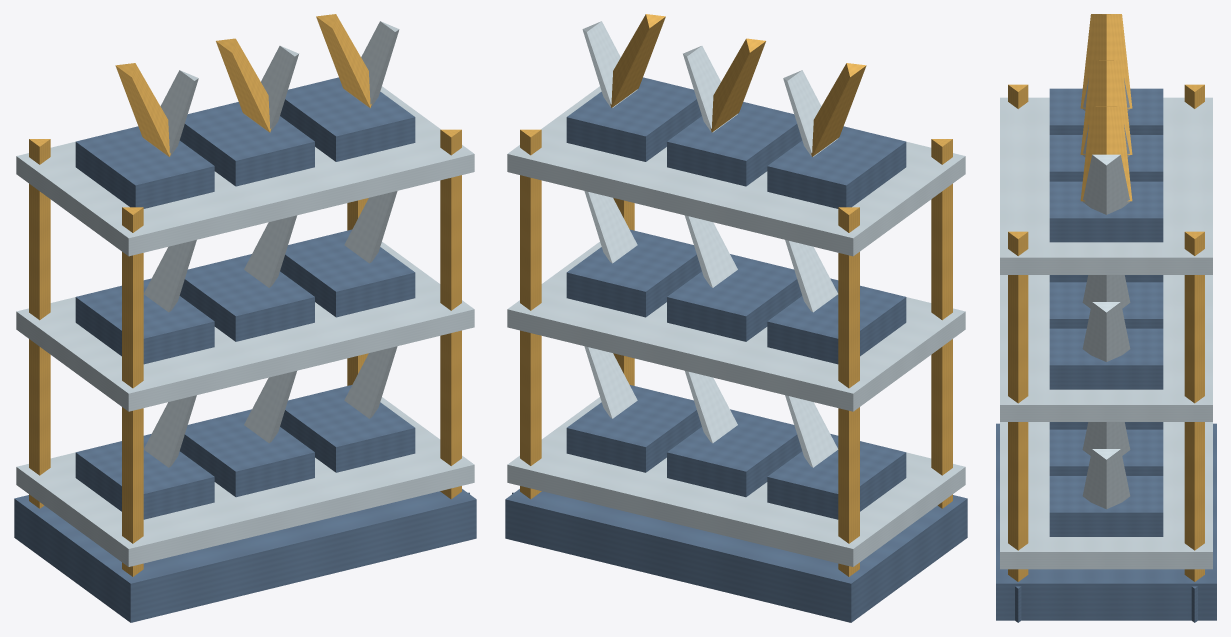
The model's file is atlas100-s054-a01.lod2.glb.
3 views of the same model, side by side, from view 1: azimuth 30°, elevation 25°; view 2: azimuth 150°, elevation 25°; view 3: azimuth 270°, elevation 25° (orthographic). The views are drawn at different scales.
Parts seen in each view (by area): view 1: atlas100-s054-a01:part-000, atlas100-s054-a01:part-031, atlas100-s054-a01:part-011, atlas100-s054-a01:part-021, atlas100-s054-a01:part-032, atlas100-s054-a01:part-028, atlas100-s054-a01:part-018, atlas100-s054-a01:part-015, atlas100-s054-a01:part-025, atlas100-s054-a01:part-038, atlas100-s054-a01:part-035, atlas100-s054-a01:part-005 (+17 smaller); view 2: atlas100-s054-a01:part-000, atlas100-s054-a01:part-031, atlas100-s054-a01:part-011, atlas100-s054-a01:part-021, atlas100-s054-a01:part-032, atlas100-s054-a01:part-028, atlas100-s054-a01:part-018, atlas100-s054-a01:part-015, atlas100-s054-a01:part-025, atlas100-s054-a01:part-038, atlas100-s054-a01:part-035, atlas100-s054-a01:part-003 (+17 smaller); view 3: atlas100-s054-a01:part-031, atlas100-s054-a01:part-011, atlas100-s054-a01:part-021, atlas100-s054-a01:part-000, atlas100-s054-a01:part-007, atlas100-s054-a01:part-009, atlas100-s054-a01:part-028, atlas100-s054-a01:part-018, atlas100-s054-a01:part-038, atlas100-s054-a01:part-025, atlas100-s054-a01:part-015, atlas100-s054-a01:part-032 (+13 smaller).
Boxes of the visible parts, <box> form: atlas100-s054-a01:part-000: <box>14,489,476,622</box>; atlas100-s054-a01:part-031: <box>16,86,474,256</box>; atlas100-s054-a01:part-011: <box>16,397,474,566</box>; atlas100-s054-a01:part-021: <box>16,242,474,411</box>; atlas100-s054-a01:part-032: <box>75,126,214,208</box>; atlas100-s054-a01:part-028: <box>280,229,415,317</box>; atlas100-s054-a01:part-018: <box>280,385,415,472</box>; atlas100-s054-a01:part-015: <box>180,409,314,497</box>; atlas100-s054-a01:part-025: <box>179,254,314,341</box>; atlas100-s054-a01:part-038: <box>280,77,415,161</box>; atlas100-s054-a01:part-035: <box>179,102,314,186</box>; atlas100-s054-a01:part-005: <box>122,207,143,576</box>; atlas100-s054-a01:part-000: <box>505,489,967,622</box>; atlas100-s054-a01:part-031: <box>507,86,965,256</box>; atlas100-s054-a01:part-011: <box>507,397,965,566</box>; atlas100-s054-a01:part-021: <box>507,242,965,411</box>; atlas100-s054-a01:part-032: <box>767,126,906,208</box>; atlas100-s054-a01:part-028: <box>566,229,701,317</box>; atlas100-s054-a01:part-018: <box>566,385,701,472</box>; atlas100-s054-a01:part-015: <box>667,409,801,497</box>; atlas100-s054-a01:part-025: <box>667,254,802,341</box>; atlas100-s054-a01:part-038: <box>566,77,701,161</box>; atlas100-s054-a01:part-035: <box>667,102,802,186</box>; atlas100-s054-a01:part-003: <box>838,207,859,576</box>; atlas100-s054-a01:part-031: <box>1000,97,1212,274</box>; atlas100-s054-a01:part-011: <box>1000,422,1212,569</box>; atlas100-s054-a01:part-021: <box>1000,275,1212,421</box>; atlas100-s054-a01:part-000: <box>996,423,1216,620</box>; atlas100-s054-a01:part-007: <box>1184,231,1204,581</box>; atlas100-s054-a01:part-009: <box>1008,231,1028,581</box>; atlas100-s054-a01:part-028: <box>1049,328,1163,389</box>; atlas100-s054-a01:part-018: <box>1049,476,1163,536</box>; atlas100-s054-a01:part-038: <box>1049,181,1163,242</box>; atlas100-s054-a01:part-025: <box>1049,282,1163,328</box>; atlas100-s054-a01:part-015: <box>1049,429,1163,475</box>; atlas100-s054-a01:part-032: <box>1049,88,1163,134</box>.
Size of the model in its own units: 2.43 by 3.33 by 1.4.
Materials: 3 (3 with a texture image).
